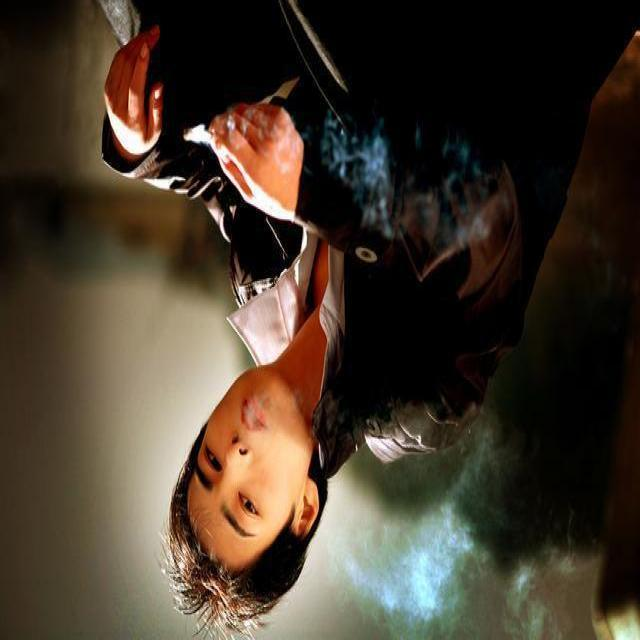cigarette: (196, 120, 255, 179)
